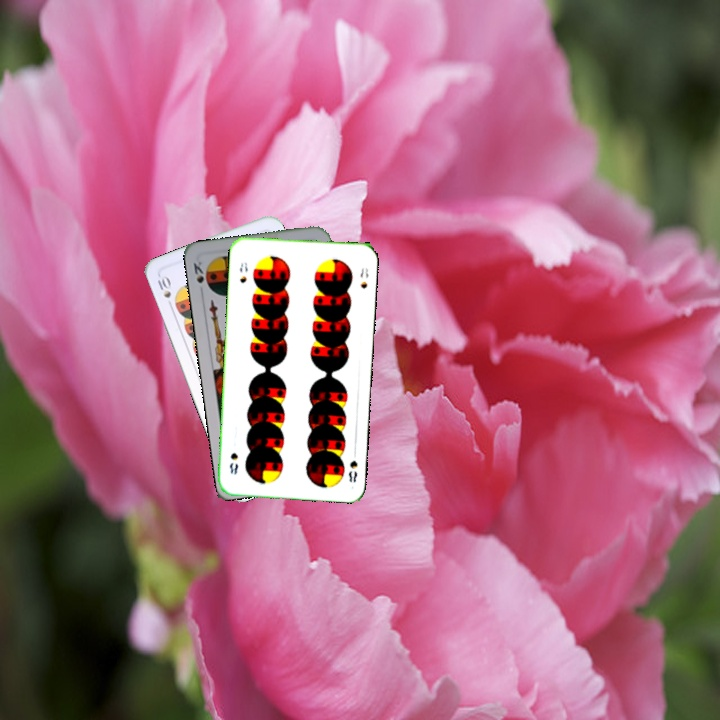S10: (153, 272, 175, 310)
S8: (345, 446, 360, 485), (235, 258, 250, 285)
SK: (189, 257, 206, 286)
